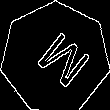M_SW: (22, 24, 88, 92)
